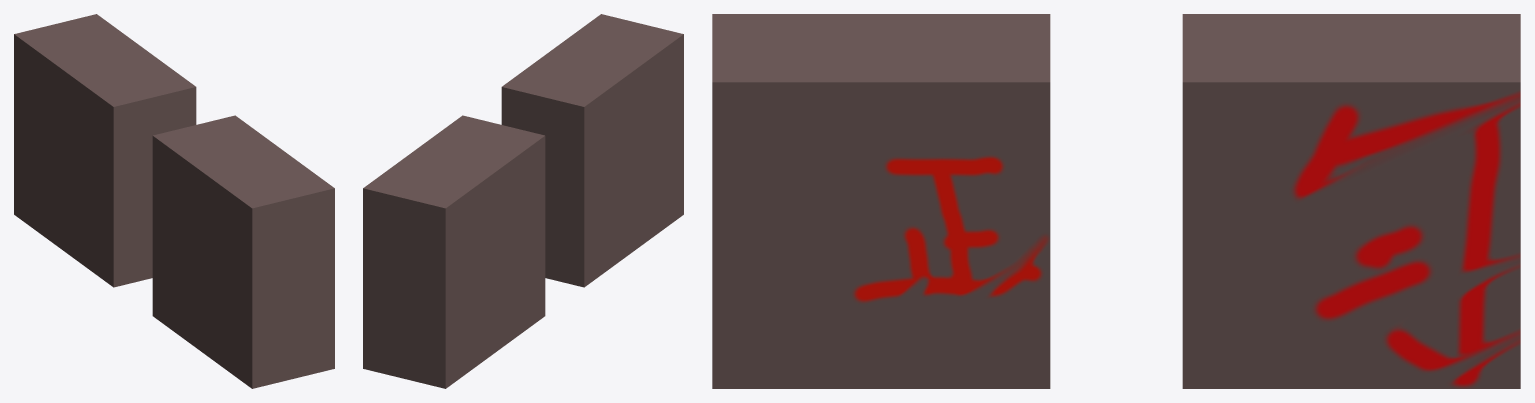
File: sign2.fbx
3 views of the same model, side by side, from view 1: azimuth 30°, elevation 25°; view 2: azimuth 150°, elevation 25°; view 3: azimuth 270°, elevation 25° (orthographic). The views are drawn at different scales.
Parts seen in each view (by area): view 1: Cube, Cube.001; view 2: Cube.001, Cube; view 3: Cube, Cube.001.
Part boxes in pixels (x1,y1,x2,y2): Cube: (152, 115, 334, 388); Cube.001: (14, 14, 196, 287); Cube.001: (363, 115, 545, 388); Cube: (501, 14, 683, 287); Cube: (712, 14, 1050, 388); Cube.001: (1182, 14, 1520, 388).
Bounding box in the file's own units: 93.73 × 196 × 468.
